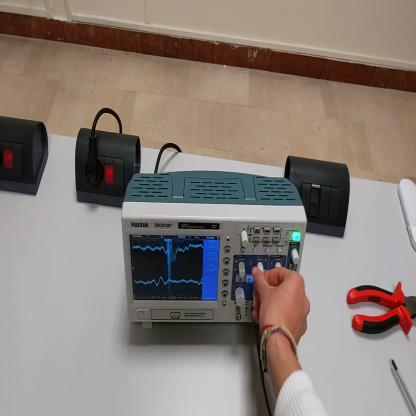hand: (251, 264, 311, 352)
oscilloscope: (122, 170, 306, 331)
pliers: (348, 282, 416, 343)
screwdriver-: (391, 358, 416, 412)
socket: (74, 128, 144, 207), (2, 115, 51, 200)
